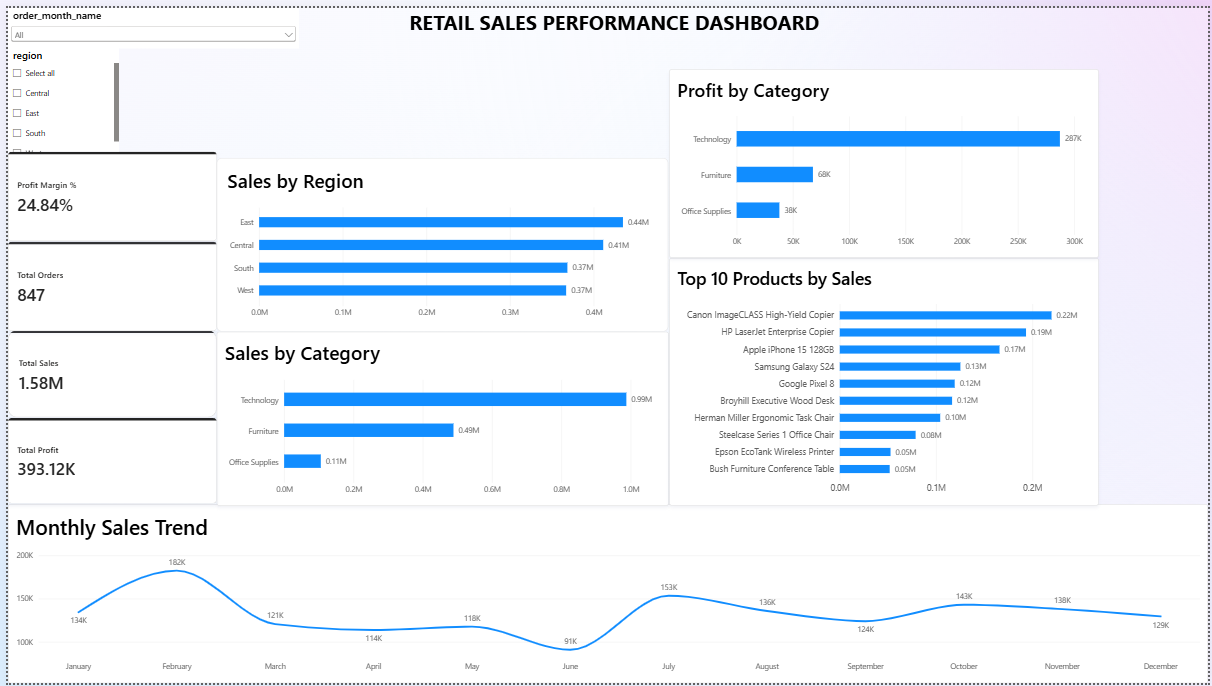

Layout of this report page (visuals, bound fields, positions):
{"tool":"powerbi","page":{"name":"Page 1","canvas":[1920,1080],"ordinal":0},"visuals":[{"type":"cardVisual","fields":{"Data":["cleaned_retail_sales.Total Sales"]},"box":[0,516.3,334.9,139.5],"z":0},{"type":"cardVisual","fields":{"Data":["cleaned_retail_sales.Total Orders"]},"box":[0,373.3,334.9,143],"z":1000},{"type":"lineChart","title":"Monthly Sales Trend ","fields":{"Category":["cleaned_retail_sales.order_date.Variation.Date Hierarchy.Month"],"Y":["Sum(cleaned_retail_sales.sales)"]},"box":[0,793.6,1920.4,286],"z":1001},{"type":"clusteredBarChart","title":"Sales by Category","fields":{"Category":["cleaned_retail_sales.category"],"Y":["Sum(cleaned_retail_sales.sales)"]},"box":[334.9,518,723.6,278],"z":1002},{"type":"cardVisual","fields":{"Data":["cleaned_retail_sales.Total Profit"]},"box":[0,655.8,334.9,137.8],"z":1003},{"type":"cardVisual","fields":{"Data":["cleaned_retail_sales.Profit Margin %"]},"box":[0,230.2,334.9,143],"z":1004},{"type":"clusteredBarChart","title":"Sales by Region","fields":{"Category":["cleaned_retail_sales.region"],"Y":["Sum(cleaned_retail_sales.sales)"]},"box":[334.9,240.7,722.1,277.3],"z":1005},{"type":"clusteredBarChart","title":"Top 10 Products by Sales ","fields":{"Category":["cleaned_retail_sales.product_name"],"Y":["Sum(cleaned_retail_sales.sales)"]},"box":[1058.7,399.4,687.2,395.9],"z":1006},{"type":"slicer","fields":{"Values":["cleaned_retail_sales.order_month_name"]},"box":[0,0,465.7,64.5],"z":1007},{"type":"slicer","fields":{"Values":["cleaned_retail_sales.region"]},"box":[0,64.5,177.9,165.7],"z":1008},{"type":"textbox","box":[642.5,0,750,80],"z":1009},{"type":"clusteredBarChart","title":"Profit by Category","fields":{"Category":["cleaned_retail_sales.category"],"Y":["Sum(cleaned_retail_sales.profit)"]},"box":[1057.5,97.5,687.2,301.7],"z":1010}]}

Visuals, with their boxes in screenshot pixels (x1, y1, x2, y2), scaled from the page's 1920x1080 canvas onto the 1212x686 screenshot:
cardVisual - cleaned_retail_sales.Total Sales: box(0, 328, 211, 417)
cardVisual - cleaned_retail_sales.Total Orders: box(0, 237, 211, 328)
"Monthly Sales Trend " lineChart: box(0, 504, 1211, 685)
"Sales by Category" clusteredBarChart: box(211, 329, 668, 506)
cardVisual - cleaned_retail_sales.Total Profit: box(0, 417, 211, 504)
cardVisual - cleaned_retail_sales.Profit Margin %: box(0, 146, 211, 237)
"Sales by Region" clusteredBarChart: box(211, 153, 667, 329)
"Top 10 Products by Sales " clusteredBarChart: box(668, 254, 1102, 505)
slicer - cleaned_retail_sales.order_month_name: box(0, 0, 294, 41)
slicer - cleaned_retail_sales.region: box(0, 41, 112, 146)
textbox: box(406, 0, 879, 51)
"Profit by Category" clusteredBarChart: box(668, 62, 1101, 254)
